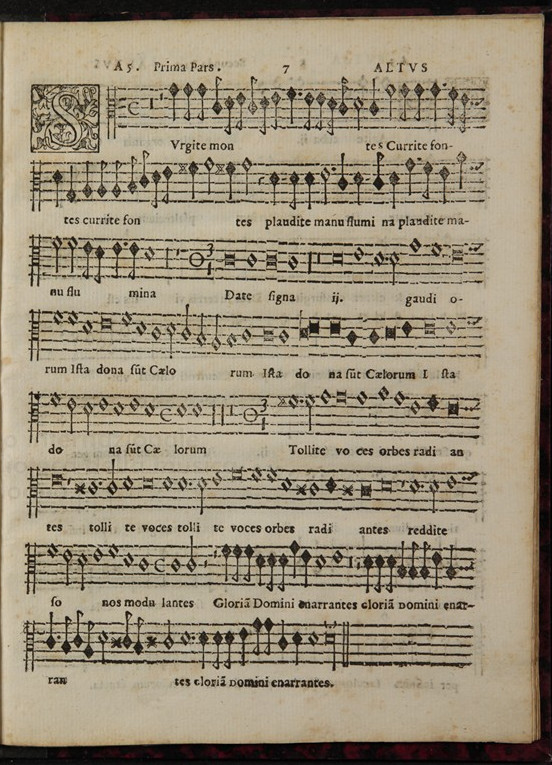1: (202, 257, 215, 284)
3: (203, 237, 215, 260)
Pmin: (183, 244, 205, 274)
breve rest: (313, 236, 324, 275)
breve_5: (446, 245, 467, 267)
breve_7: (327, 245, 348, 269), (267, 245, 283, 274), (222, 247, 240, 271)
c clef_7: (24, 231, 45, 286)
custos_4: (466, 236, 488, 263)
fusa_5: (78, 232, 95, 282), (125, 234, 142, 276)
fusa_6: (91, 237, 106, 275)
longa rest: (302, 233, 315, 286), (160, 235, 172, 284)
minim_4: (48, 230, 63, 274), (63, 231, 78, 274)
minim_6: (390, 244, 400, 281)
point: (118, 237, 130, 252), (381, 253, 392, 266)
semibreve rest: (171, 231, 183, 275)
semibreve_3: (406, 231, 424, 259)
semibreve_4: (425, 234, 447, 261)
semibreve_5: (353, 244, 367, 265)
semibreve_6: (138, 239, 157, 266), (367, 243, 385, 270)
semibreve_7: (245, 246, 260, 272), (289, 246, 301, 274)
semiminim_5: (109, 237, 122, 281)
